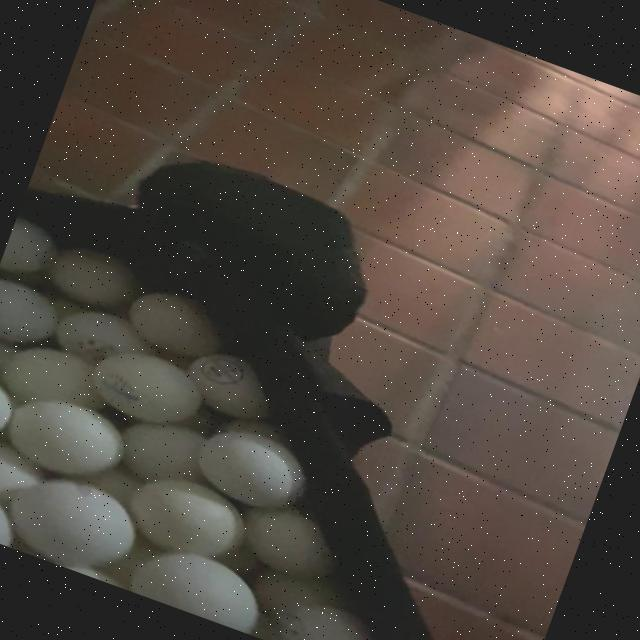ping-pong-ball: (0, 460, 152, 585), (183, 407, 333, 527), (120, 459, 266, 571), (76, 334, 212, 442), (0, 387, 124, 485)
